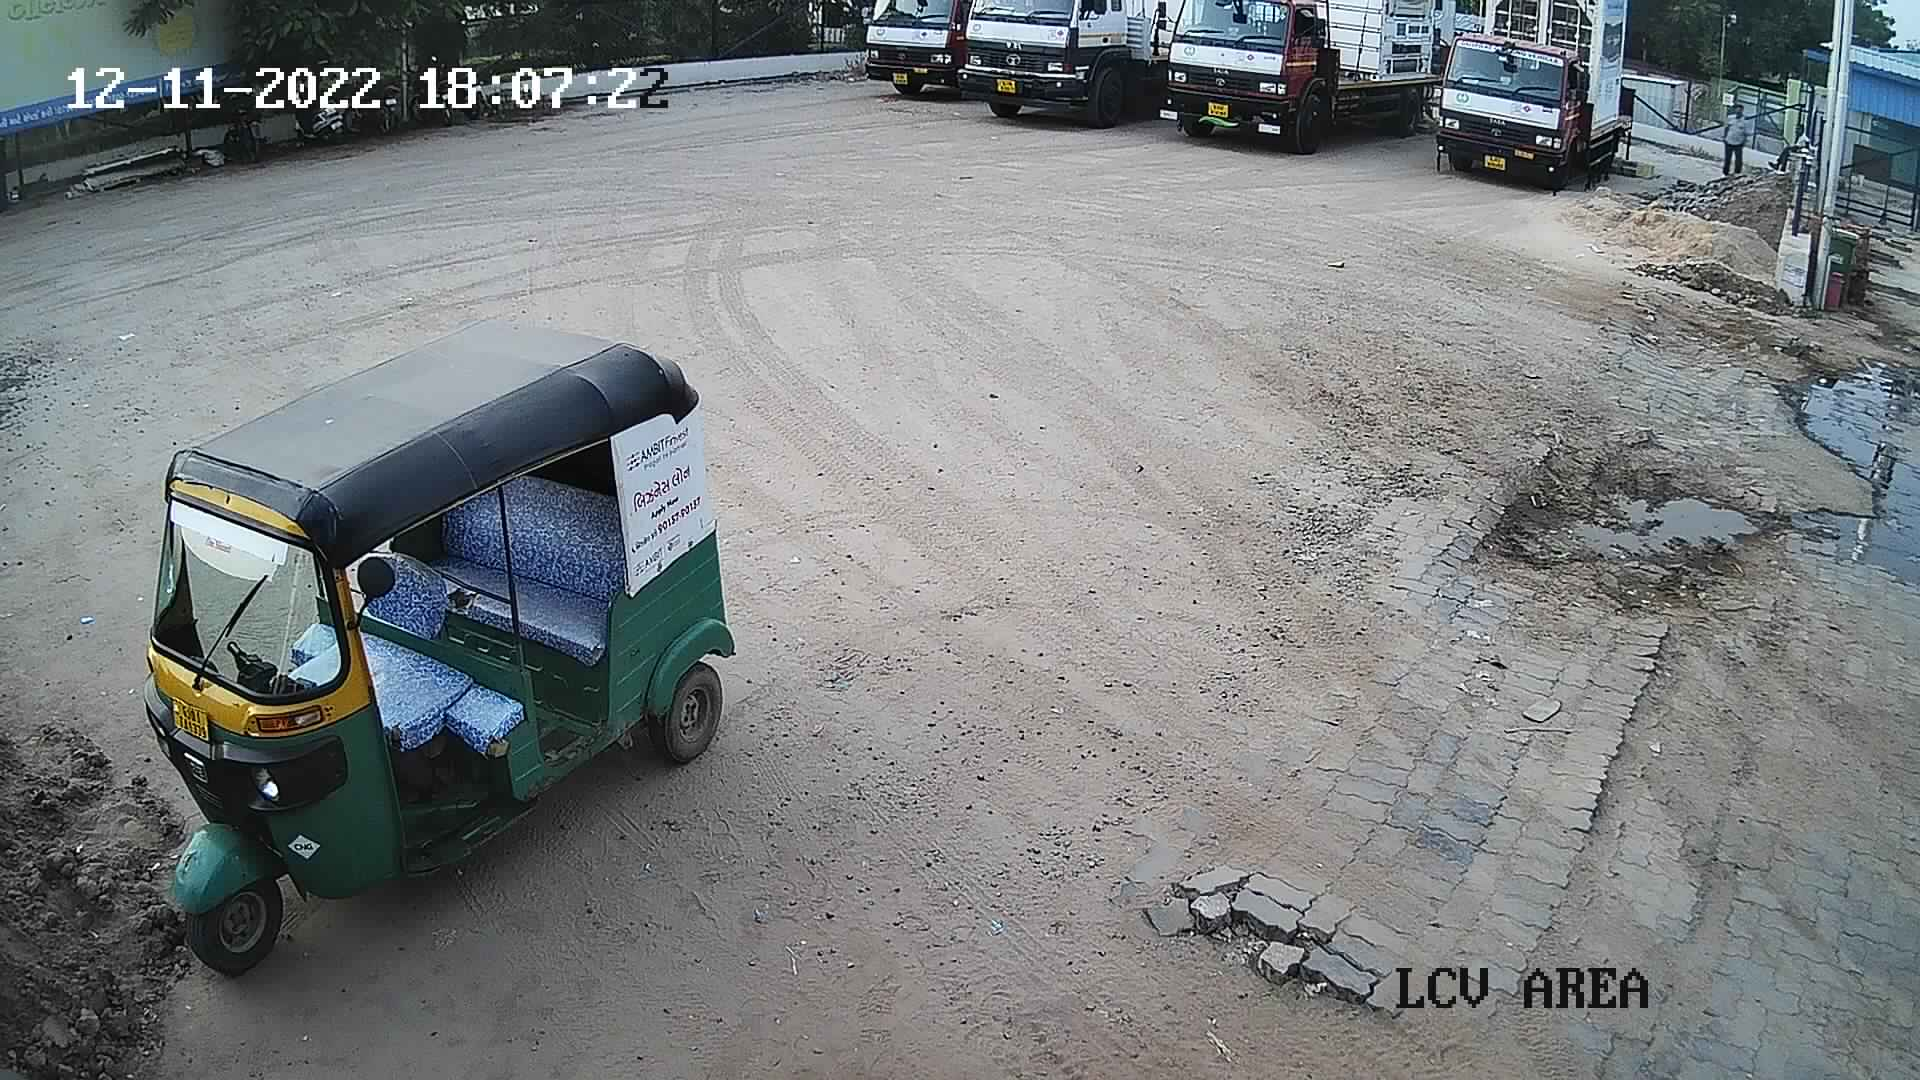Auto: (133, 302, 746, 989)
HMV: (1138, 1, 1456, 156), (1411, 1, 1642, 196), (943, 0, 1189, 127), (847, 0, 976, 99)
